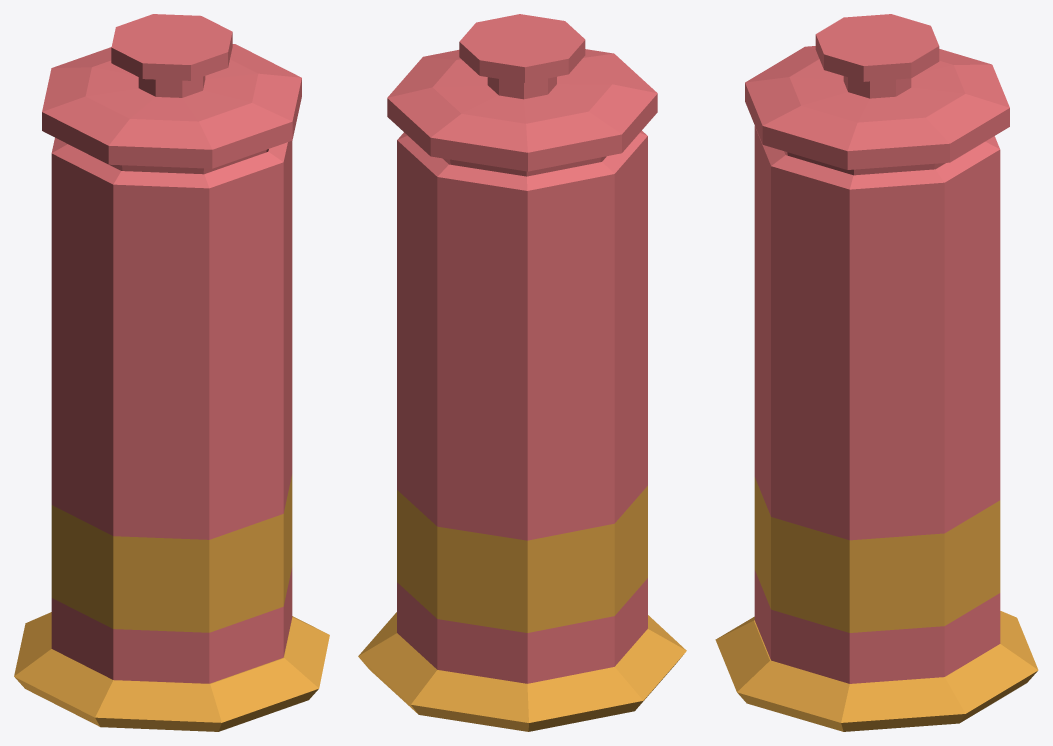
The model's file is SM_Jar_Jellyfish.fbx.
3 views of the same model, side by side, from view 1: azimuth 30°, elevation 25°; view 2: azimuth 150°, elevation 25°; view 3: azimuth 270°, elevation 25° (orthographic).
Visible parts, largest first — view 1: jar-jellyfish; view 2: jar-jellyfish; view 3: jar-jellyfish.
Part boxes in pixels (x1,y1,x2,y2): jar-jellyfish: [14, 14, 329, 731]; jar-jellyfish: [358, 14, 686, 731]; jar-jellyfish: [715, 14, 1038, 731].
Bounding box in the file's own units: 1.15 × 2.48 × 1.16.
